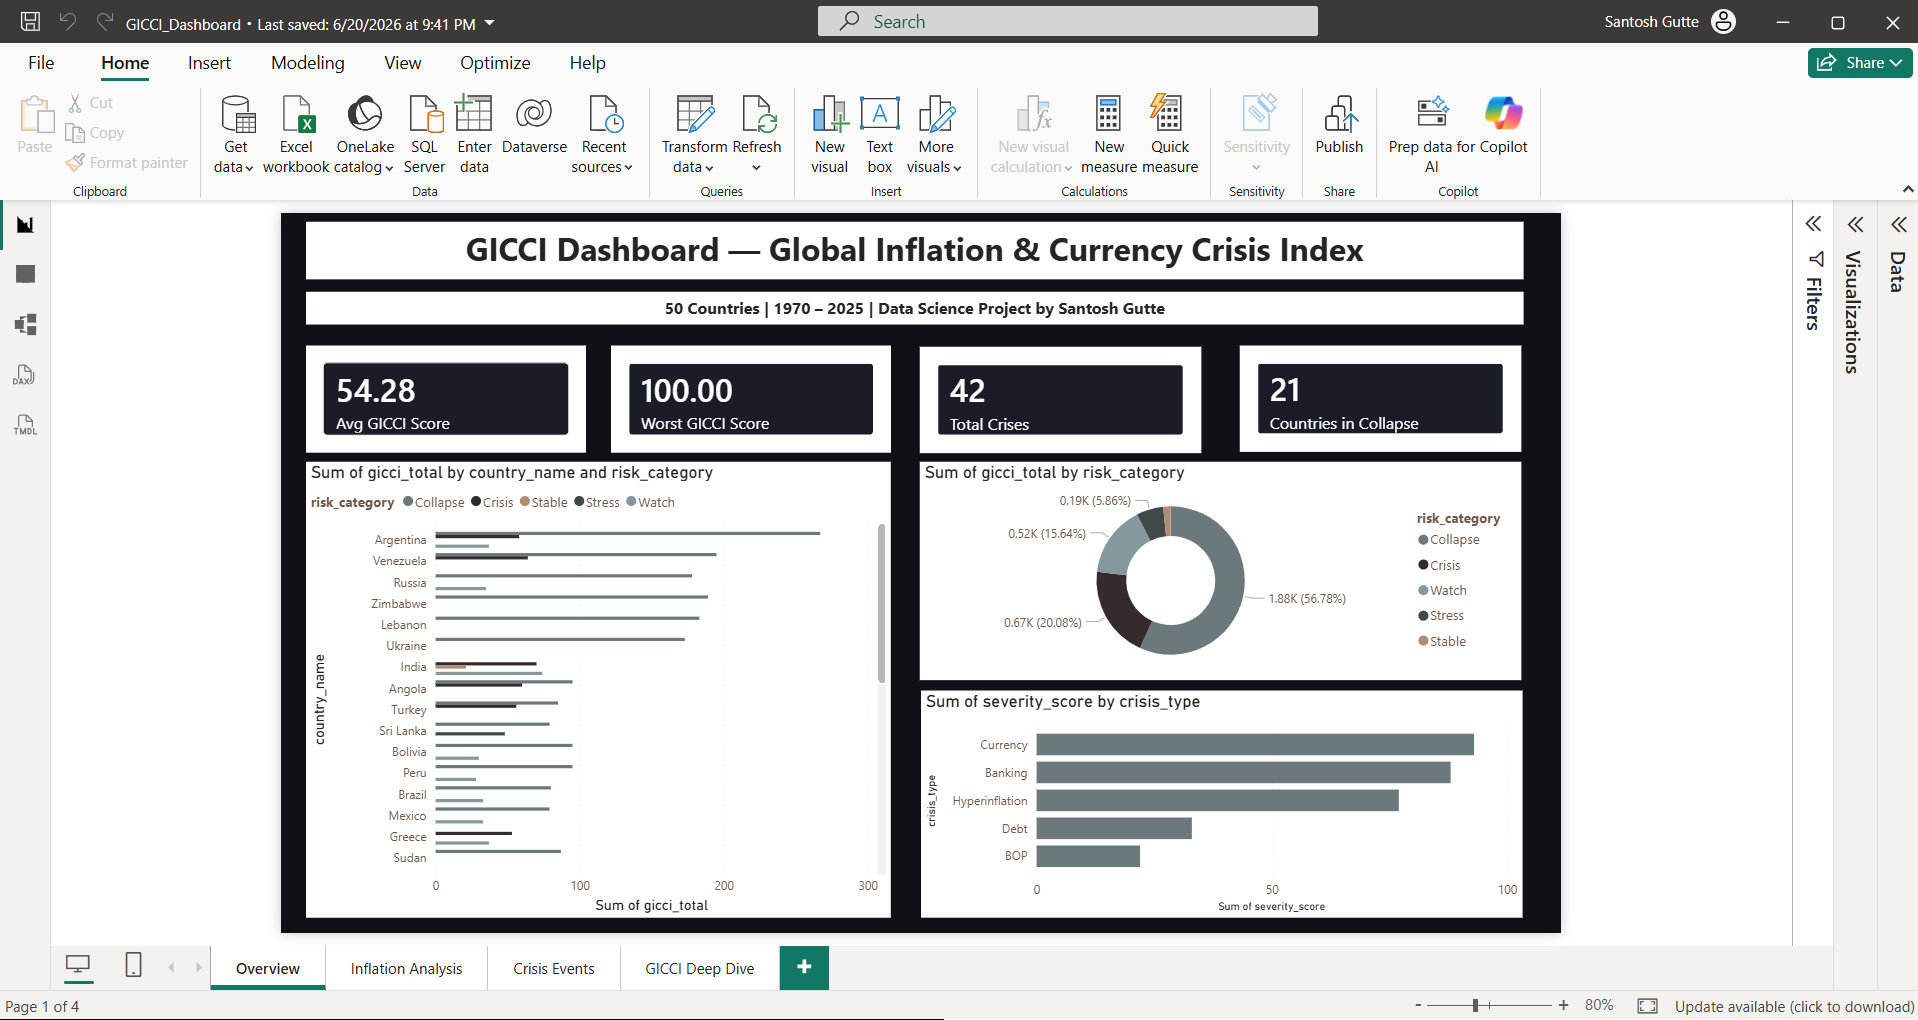

The page's visual inventory and layout, read from the dashboard file:
{"tool":"powerbi","page":{"name":"Overview","canvas":[1280,720],"ordinal":0},"visuals":[{"type":"cardVisual","fields":{"Data":["gicci_db countries.Avg GICCI Score"]},"box":[25,132.5,280,107.5],"z":0},{"type":"cardVisual","fields":{"Data":["gicci_db countries.Worst GICCI Score"]},"box":[330,132.5,280,107.5],"z":1000},{"type":"cardVisual","fields":{"Data":["gicci_db countries.Total Crises"]},"box":[638.8,133.8,281.2,106.2],"z":2000},{"type":"cardVisual","fields":{"Data":["gicci_db countries.Countries in Collapse"]},"box":[958.8,132.5,281.2,106.2],"z":3000},{"type":"clusteredBarChart","fields":{"Y":["Sum(gicci_db gicci_scores.gicci_total)"],"Series":["gicci_db gicci_scores.risk_category"],"Category":["gicci_db countries.country_name"]},"box":[25,248.8,585,456.2],"z":4000},{"type":"donutChart","fields":{"Category":["gicci_db gicci_scores.risk_category"],"Y":["Sum(gicci_db gicci_scores.gicci_total)"]},"box":[638.8,248.8,601.2,218.8],"z":5000},{"type":"clusteredBarChart","fields":{"Category":["gicci_db crisis_events.crisis_type"],"Y":["Sum(gicci_db crisis_events.severity_score)"]},"box":[640,477.5,601.2,227.5],"z":6000},{"type":"textbox","box":[25,8.8,1217.5,57.5],"z":7000},{"type":"textbox","box":[25,78.8,1217.5,32.5],"z":8000}]}

Visuals, with their boxes on the page's 1280x720 design canvas (x1, y1, x2, y2). These are canvas units, not pixel positions in the 1918x1020 screenshot, which may show the page scaled, cropped or inside an application window:
cardVisual - gicci_db countries.Avg GICCI Score: x1=25, y1=132, x2=305, y2=240
cardVisual - gicci_db countries.Worst GICCI Score: x1=330, y1=132, x2=610, y2=240
cardVisual - gicci_db countries.Total Crises: x1=639, y1=134, x2=920, y2=240
cardVisual - gicci_db countries.Countries in Collapse: x1=959, y1=132, x2=1240, y2=239
clusteredBarChart - Sum(gicci_db gicci_scores.gicci_total) x gicci_db gicci_scores.risk_category: x1=25, y1=249, x2=610, y2=705
donutChart - gicci_db gicci_scores.risk_category x Sum(gicci_db gicci_scores.gicci_total): x1=639, y1=249, x2=1240, y2=468
clusteredBarChart - gicci_db crisis_events.crisis_type x Sum(gicci_db crisis_events.severity_score): x1=640, y1=478, x2=1241, y2=705
textbox: x1=25, y1=9, x2=1242, y2=66
textbox: x1=25, y1=79, x2=1242, y2=111
